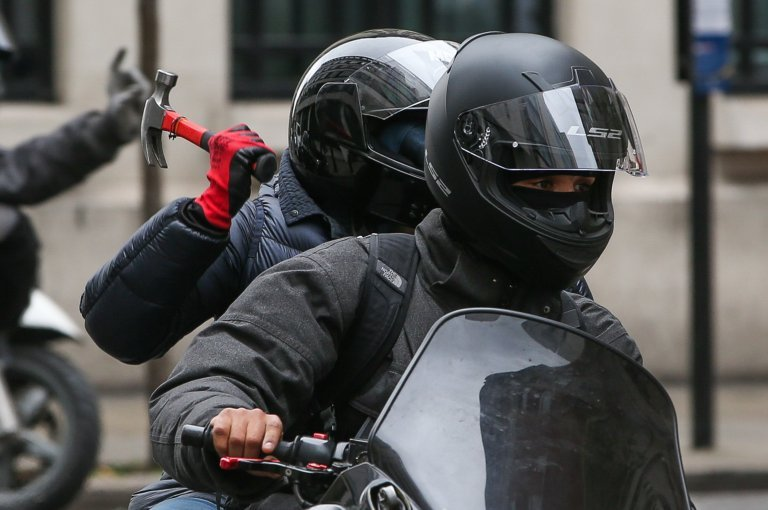Helmet: (425, 29, 647, 289), (286, 15, 464, 225)
motorcycle: (238, 308, 719, 510)
